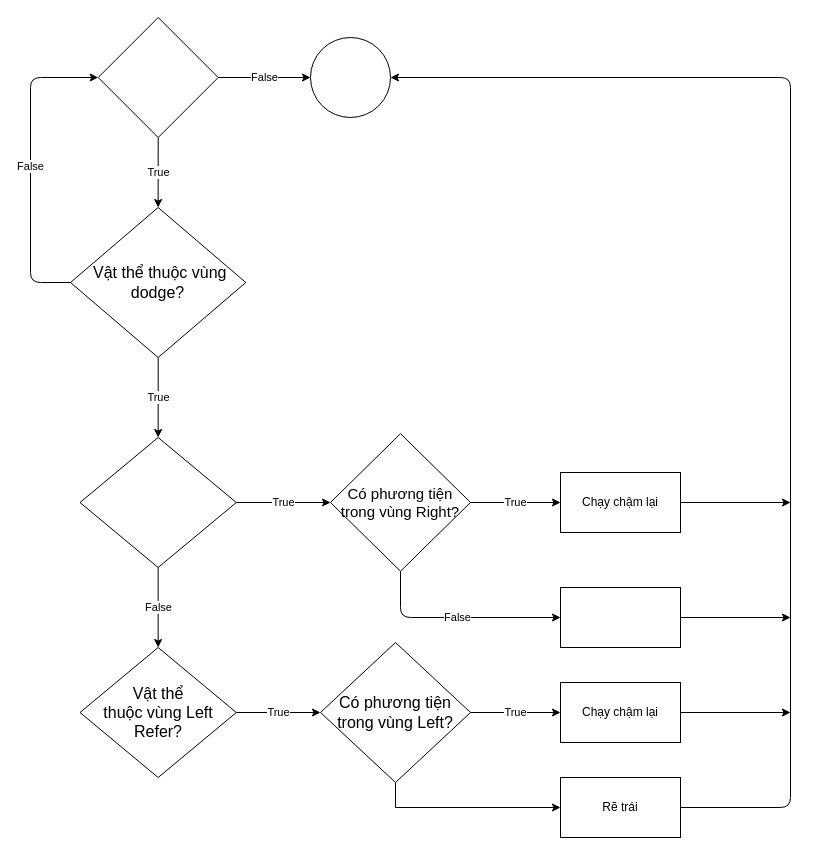
Some shapes in this 816 by 855 pixel diagram are drawn without their labels. Here are the shapes that lost their labels. From the top down, the centre of each, then its label:
(x=157, y=77): Còn vật thể?
(x=350, y=77): Frame tiếp theo
(x=157, y=502): Vật thể thuộc vùng Right Refer?
(x=620, y=617): Rẽ phải
